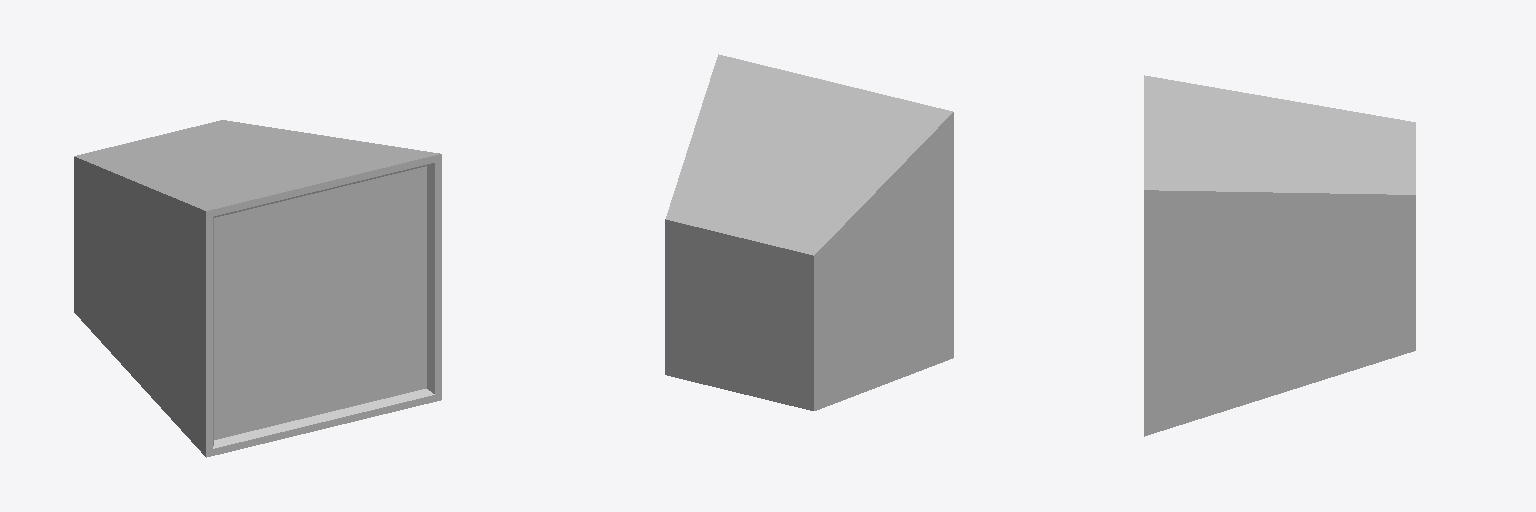
Rendered from crt.obj.
3 views of the same model, side by side, from view 1: azimuth 30°, elevation 25°; view 2: azimuth 150°, elevation 25°; view 3: azimuth 270°, elevation 25° (orthographic).
Visible parts, largest first — view 1: Cube; view 2: Cube; view 3: Cube.
Part boxes in pixels (bbox=[...]): Cube: bbox=[74, 120, 441, 457]; Cube: bbox=[665, 54, 953, 410]; Cube: bbox=[1144, 75, 1415, 436].
Size of the model in its own units: 2 by 2 by 2.